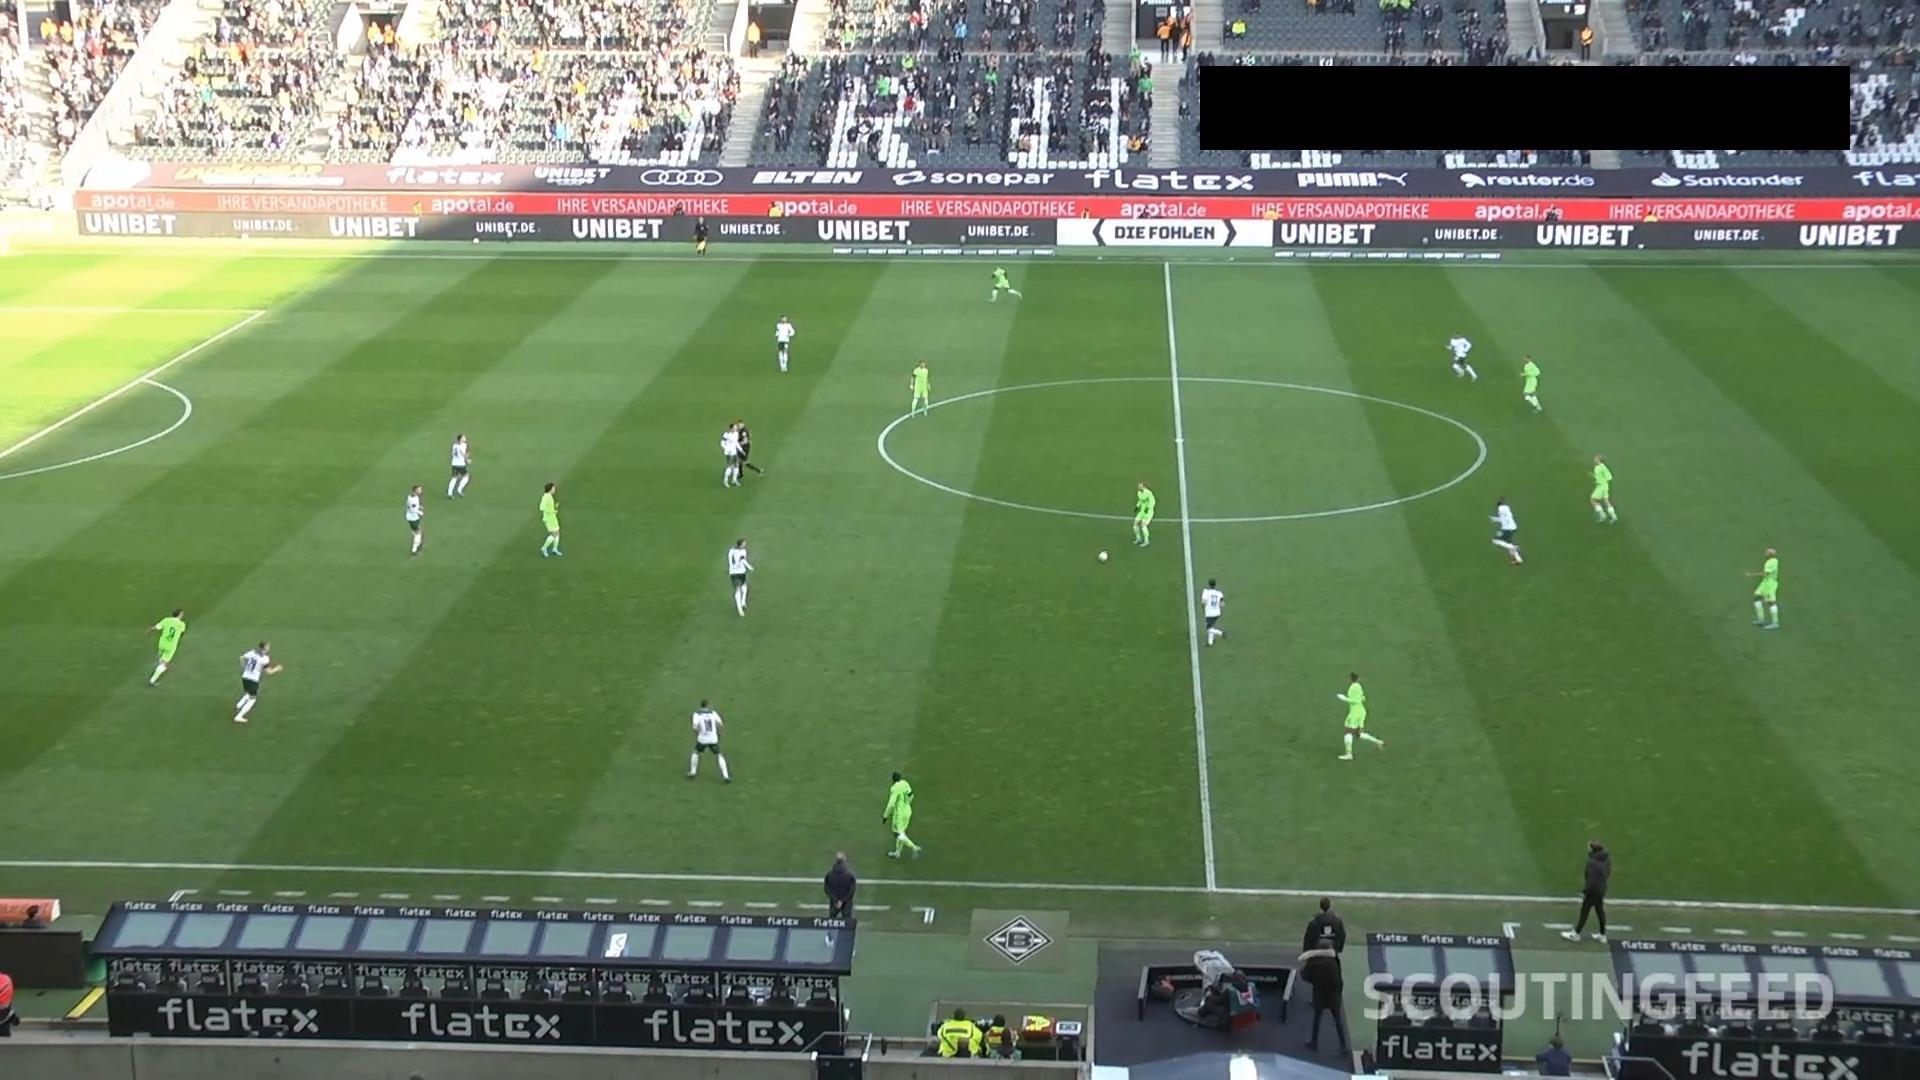ball: (1097, 550, 1110, 563)
